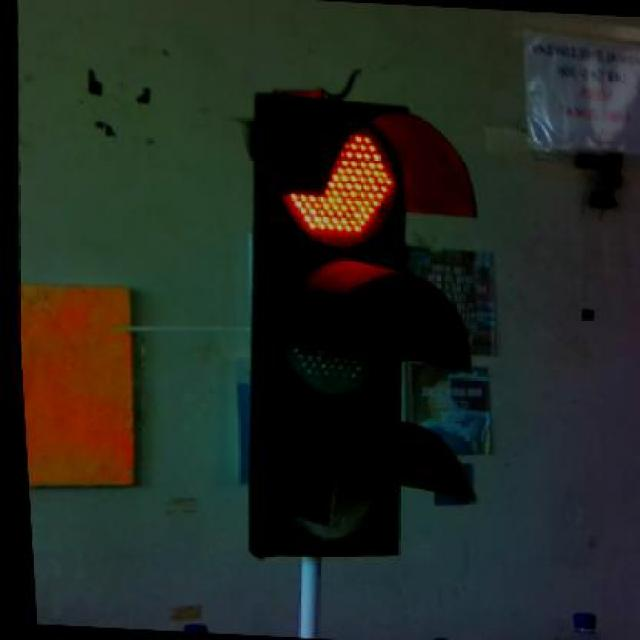red_light: (218, 94, 496, 568)
